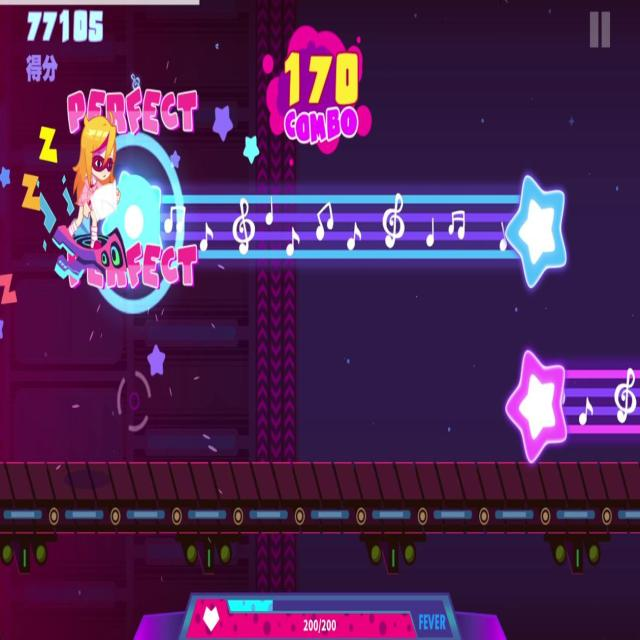hold: (110, 154, 574, 286), (503, 343, 640, 453)
